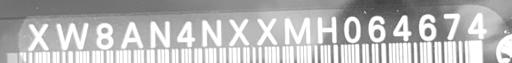letter: (54, 21, 92, 52), (282, 14, 314, 45), (116, 19, 146, 52), (252, 15, 282, 46), (146, 18, 176, 49), (196, 14, 224, 47), (225, 18, 255, 47), (24, 21, 52, 52), (464, 7, 490, 40), (439, 8, 465, 41), (315, 13, 339, 46), (339, 14, 363, 47), (92, 20, 116, 53), (415, 11, 439, 42), (389, 12, 413, 43), (172, 17, 196, 48), (365, 14, 389, 43)
